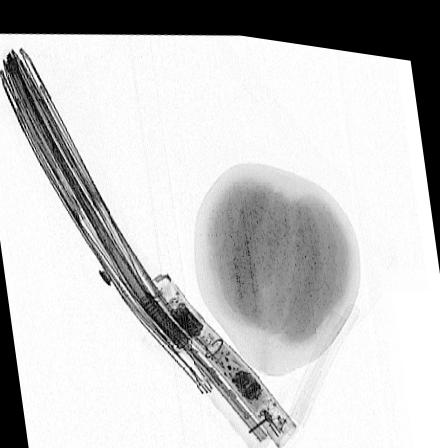Baton: (146, 267, 296, 440)
